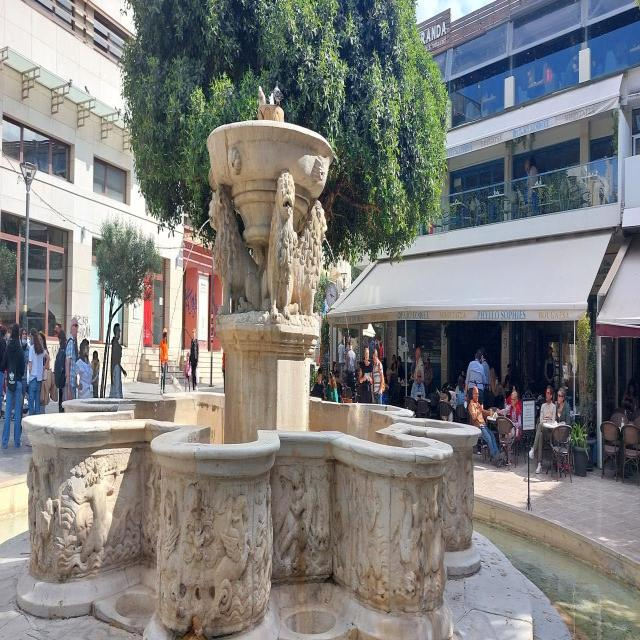Liontaria: (24, 92, 484, 640)
